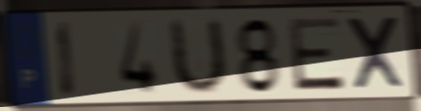4: (117, 19, 163, 97)
8: (232, 13, 282, 98)
E: (285, 14, 347, 93)
I: (54, 18, 78, 100)
U: (169, 15, 230, 98)
X: (343, 13, 409, 92)
